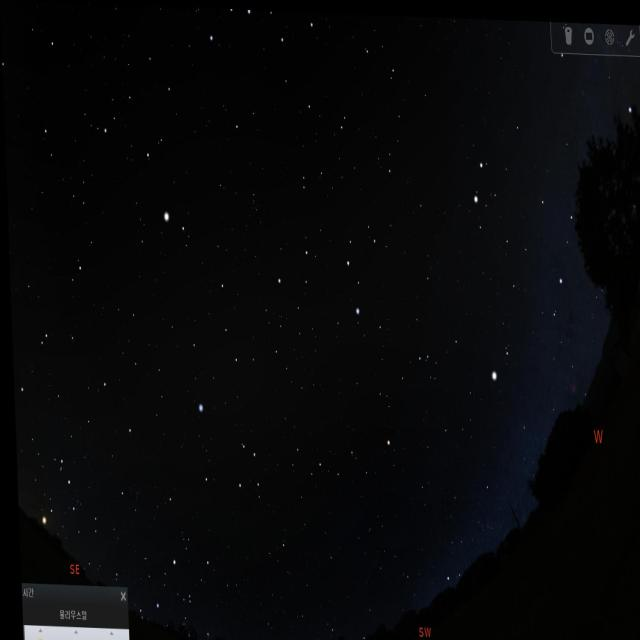bootes: (116, 32, 194, 238)
canis_minor: (473, 326, 521, 394)
gemini: (466, 136, 582, 290)
leo: (260, 208, 392, 350)
